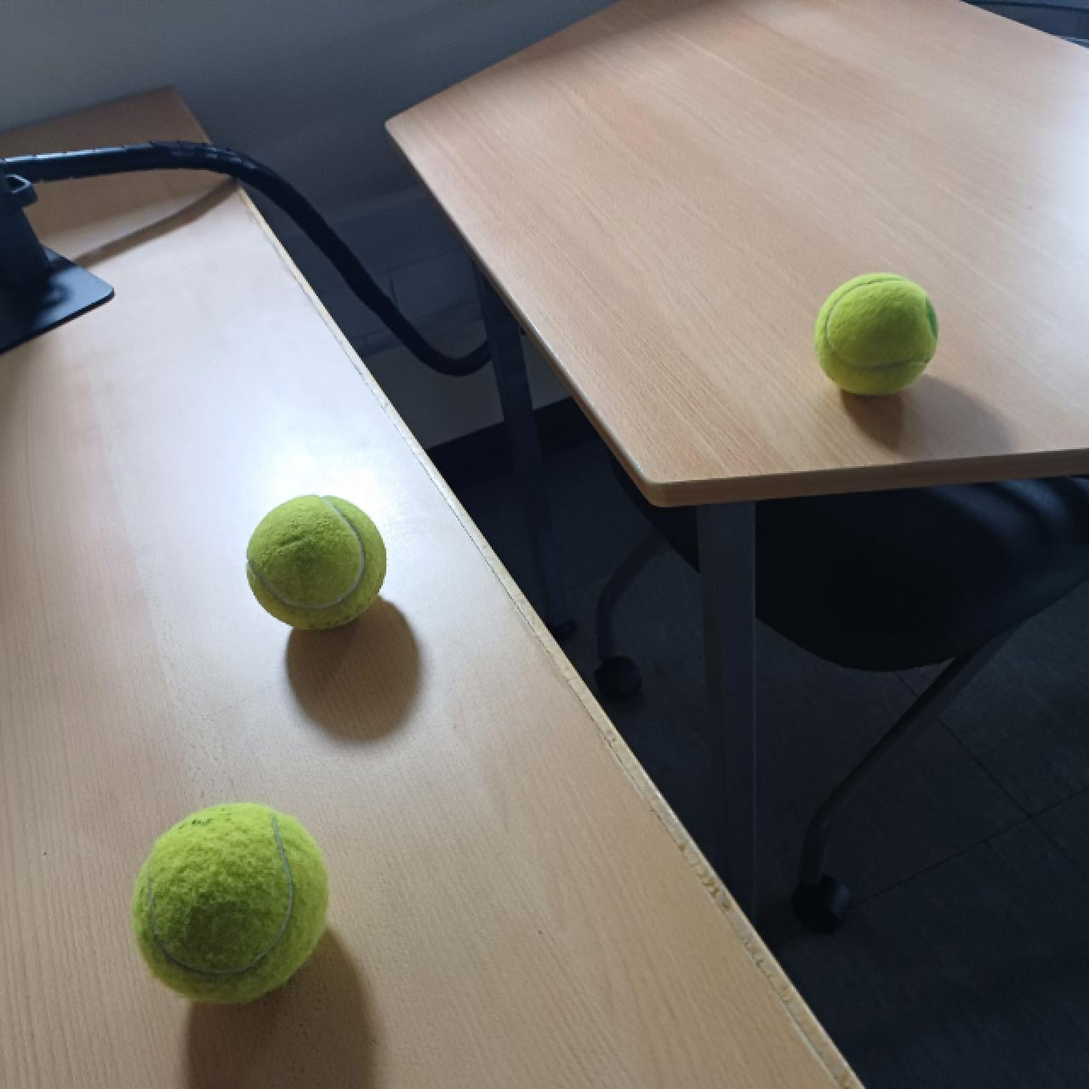tennis-ball: (128, 796, 330, 1005), (237, 490, 387, 632), (814, 269, 939, 399)
